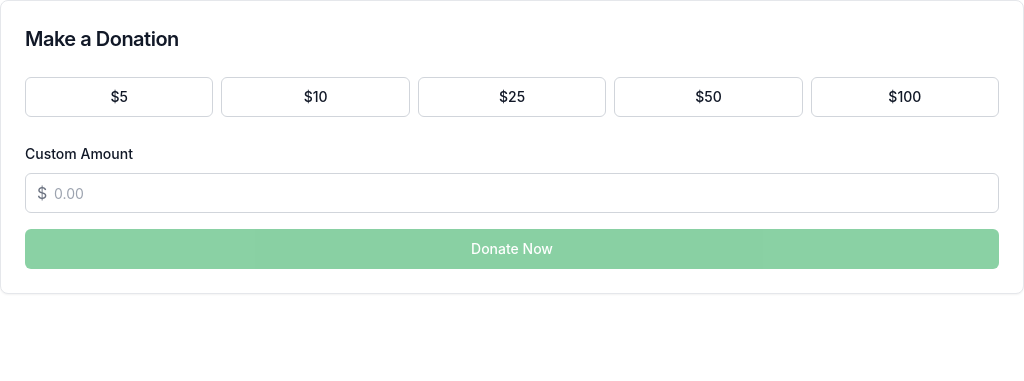
Test case: DonationForm › should show error for invalid amount
Type "0.5" into the number field labelled "Custom Amount" at (512, 193), box [25,173,999,213]
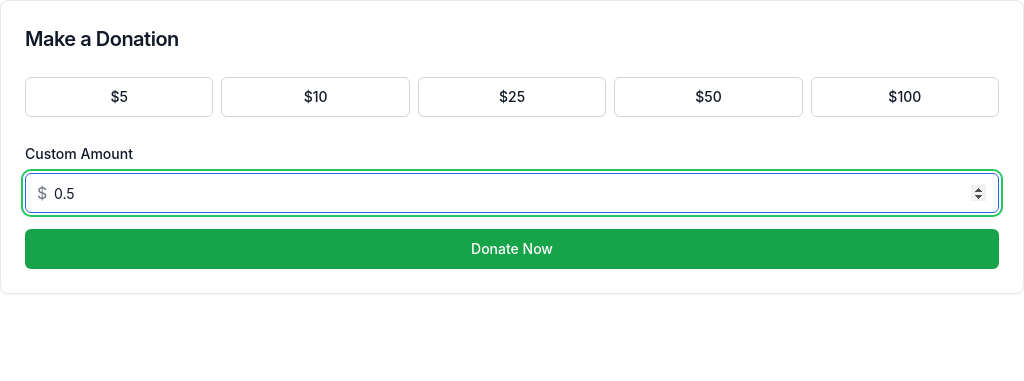
Submit the form labelled "Custom Amount $ Donate Now", box [25,141,999,269]
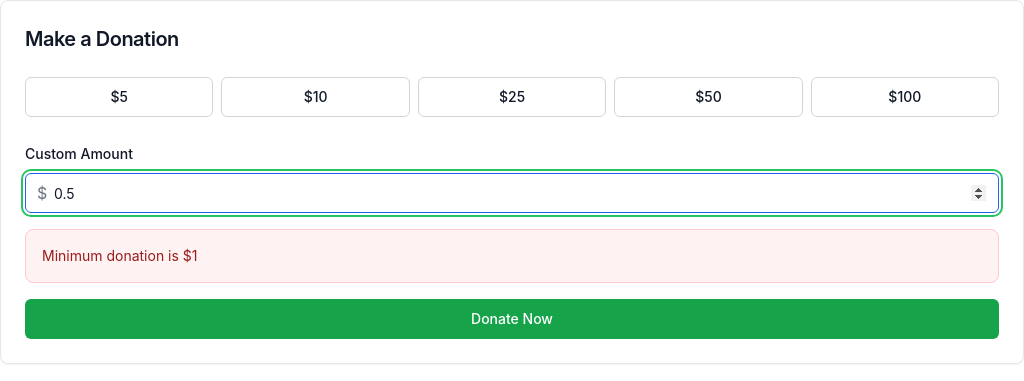
Now the message "Minimum donation is $1" is shown, box [25,229,999,283]
